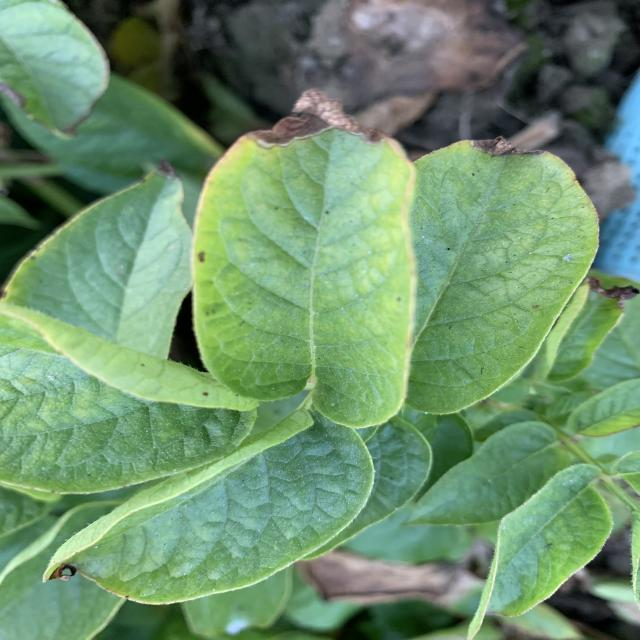lateblight: (248, 95, 362, 146), (470, 136, 543, 156)
